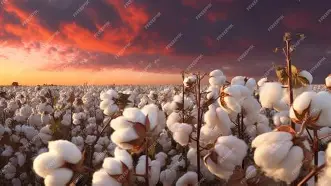crops: (2, 75, 327, 184), (91, 146, 137, 186), (0, 137, 33, 183)
